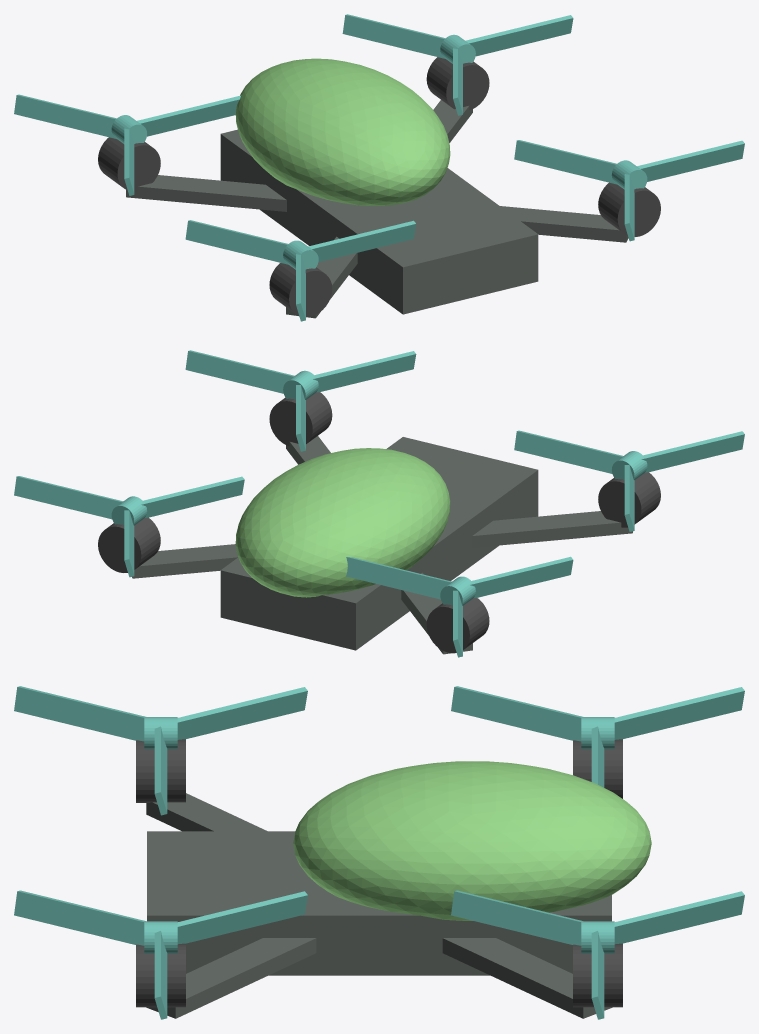
File: Roma F5.glb
3 views of the same model, one above another, from view 1: azimuth 30°, elevation 25°; view 2: azimuth 150°, elevation 25°; view 3: azimuth 270°, elevation 25° (orthographic). The views are drawn at different scales.
Parts seen in each view (by area): view 1: canopy, frame_body, prop_0, prop_2, prop_1, prop_3, arm_3, arm_0, motor_0, motor_2, motor_3, motor_1 (+2 smaller); view 2: canopy, frame_body, prop_1, prop_2, prop_0, prop_3, arm_2, arm_1, motor_1, motor_3, motor_2, motor_0 (+2 smaller); view 3: canopy, frame_body, prop_1, prop_0, prop_2, prop_3, arm_1, arm_0, arm_2, motor_0, motor_1, motor_2 (+1 smaller).
Boxes of the visible parts, x1,y1,x2,y2 form: canopy: [235, 58, 450, 205]; frame_body: [220, 129, 538, 314]; prop_0: [514, 140, 744, 241]; prop_2: [185, 220, 416, 321]; prop_1: [342, 14, 573, 115]; prop_3: [14, 94, 241, 195]; arm_3: [126, 175, 286, 211]; arm_0: [500, 206, 628, 242]; motor_0: [598, 182, 660, 236]; motor_2: [269, 263, 332, 317]; motor_3: [98, 137, 160, 191]; motor_1: [426, 57, 489, 110]; canopy: [235, 448, 450, 597]; frame_body: [220, 437, 538, 650]; prop_1: [14, 476, 244, 577]; prop_2: [514, 430, 744, 531]; prop_0: [185, 350, 416, 451]; prop_3: [346, 556, 573, 657]; arm_2: [472, 511, 632, 547]; arm_1: [132, 544, 237, 578]; motor_1: [98, 517, 160, 572]; motor_3: [426, 598, 489, 653]; motor_2: [598, 472, 660, 527]; motor_0: [269, 392, 332, 446]; canopy: [293, 761, 651, 920]; frame_body: [147, 831, 611, 975]; prop_1: [451, 890, 744, 1019]; prop_0: [14, 890, 307, 1019]; prop_2: [14, 686, 307, 815]; prop_3: [451, 686, 744, 787]; arm_1: [442, 938, 612, 1018]; arm_0: [146, 938, 316, 1018]; arm_2: [146, 793, 267, 831]; motor_0: [136, 943, 185, 1007]; motor_1: [573, 943, 622, 1007]; motor_2: [136, 739, 185, 802].
Size of the model in its own units: 0.2223 by 0.0516 by 0.2201.
